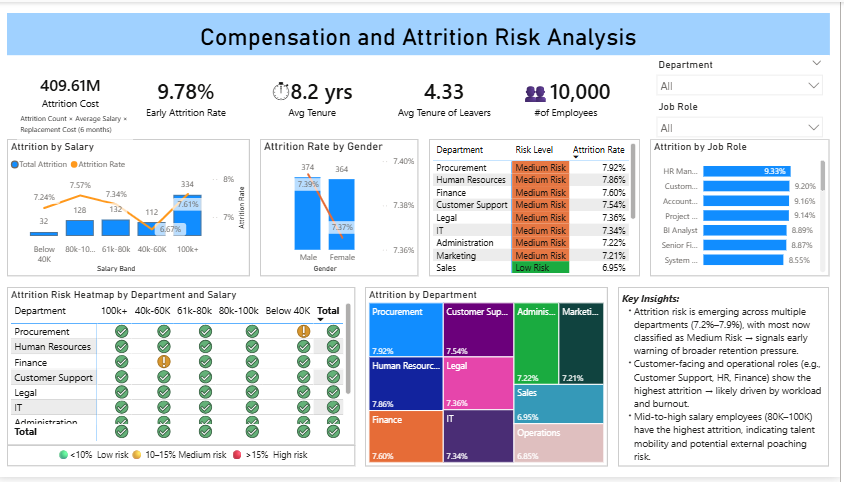

What the dashboard file says about the page in this screenshot:
{"tool":"powerbi","page":{"name":"Attrition ","canvas":[1280,720],"ordinal":1},"visuals":[{"type":"pivotTable","title":"Attrition Risk Heatmap by Department and Salary","fields":{"Rows":["DimDepartment.Department"],"Columns":["FactEmployee.Salary Band"],"Values":["DimDepartment.Attrition Rate"]},"box":[16,432,528,240],"z":0},{"type":"clusteredBarChart","title":"Attrition by Job Role","fields":{"Category":["DimJobRole.JobRole"],"Y":["DimDepartment.Attrition Rate"]},"box":[992,208,272,208],"z":1000},{"type":"lineStackedColumnComboChart","title":"Attrition by Salary","fields":{"Category":["FactEmployee.Salary Band"],"Y":["DimDepartment.Total Attrition"],"Y2":["DimDepartment.Attrition Rate"]},"box":[16,208,368,208],"z":2000},{"type":"textbox","box":[16,672,528,32],"z":3000},{"type":"card","fields":{"Values":["DimDepartment.Dynamic Title2"]},"box":[16,16,1248,64],"z":4000},{"type":"slicer","fields":{"Values":["DimJobRole.JobRole"]},"box":[992,144,272,64],"z":5000},{"type":"textbox","box":[944,432,320,272],"z":6000},{"type":"cardVisual","fields":{"Data":["FactEmployee.Attrition Cost"]},"box":[16,80,192,112],"z":7000},{"type":"cardVisual","fields":{"Data":["Date.Early Attrition Rate"]},"box":[192,80,192,128],"z":8000},{"type":"cardVisual","fields":{"Data":["DimDepartment.Avg  Tenure"]},"box":[384,80,192,128],"z":9000},{"type":"cardVisual","fields":{"Data":["FactEmployee.Avg Tenure of Leavers"]},"box":[576,80,208,128],"z":10000},{"type":"lineStackedColumnComboChart","title":"Attrition Rate by Gender","fields":{"Category":["FactEmployee.Gender"],"Y2":["DimDepartment.Attrition Rate"],"Y":["DimDepartment.Total Attrition"]},"box":[400,208,240,208],"z":11000},{"type":"textbox","box":[32,160,176,48],"z":13000},{"type":"slicer","fields":{"Values":["DimDepartment.Department"]},"box":[992,80,272,64],"z":13002},{"type":"treemap","title":"Attrition by Department","fields":{"Group":["DimDepartment.Department"],"Values":["DimDepartment.Attrition Rate"]},"box":[560,432,368,272],"z":13003},{"type":"pivotTable","title":"Attrition by Job Level","fields":{"Values":["FactEmployee.Risk Level","DimDepartment.Attrition Rate"],"Rows":["DimDepartment.Department"]},"box":[656,208,320,208],"z":13004},{"type":"cardVisual","fields":{"Data":["DimDepartment.# of Employees"]},"box":[752,80,224,128],"z":13005}]}

Visuals, with their boxes in screenshot pixels (x1, y1, x2, y2), scaled from the page's 1280x720 canvas onto the 844x482 screenshot:
"Attrition Risk Heatmap by Department and Salary" pivotTable: 11:289:359:450
"Attrition by Job Role" clusteredBarChart: 654:139:833:278
"Attrition by Salary" lineStackedColumnComboChart: 11:139:253:278
textbox: 11:450:359:471
card - DimDepartment.Dynamic Title2: 11:11:833:54
slicer - DimJobRole.JobRole: 654:96:833:139
textbox: 622:289:833:471
cardVisual - FactEmployee.Attrition Cost: 11:54:137:129
cardVisual - Date.Early Attrition Rate: 127:54:253:139
cardVisual - DimDepartment.Avg  Tenure: 253:54:380:139
cardVisual - FactEmployee.Avg Tenure of Leavers: 380:54:517:139
"Attrition Rate by Gender" lineStackedColumnComboChart: 264:139:422:278
textbox: 21:107:137:139
slicer - DimDepartment.Department: 654:54:833:96
"Attrition by Department" treemap: 369:289:612:471
"Attrition by Job Level" pivotTable: 433:139:644:278
cardVisual - DimDepartment.# of Employees: 496:54:644:139
